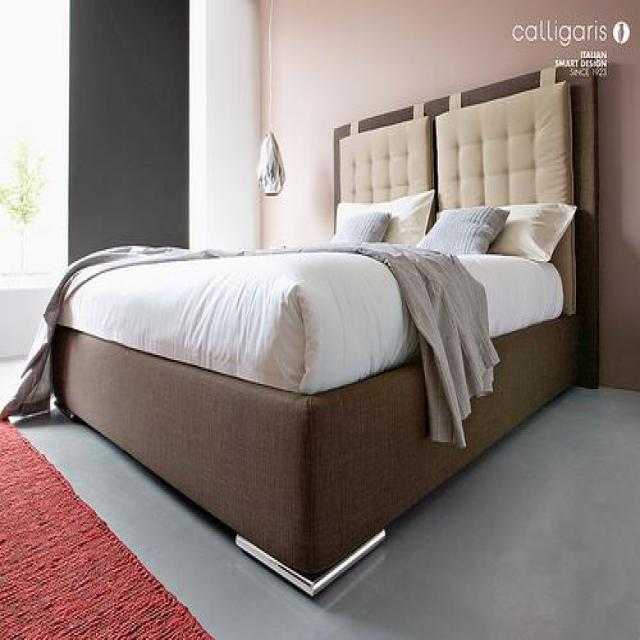bed: (48, 62, 601, 596)
